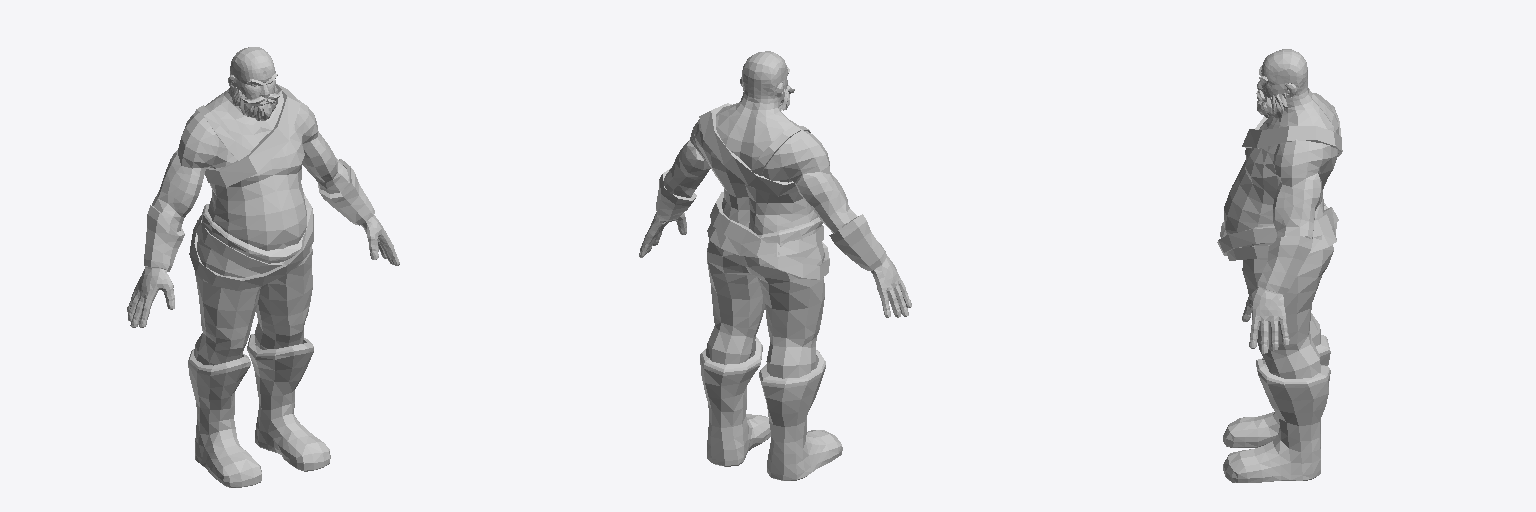
File: Bandit_ToTest.obj
3 views of the same model, side by side, from view 1: azimuth 30°, elevation 25°; view 2: azimuth 150°, elevation 25°; view 3: azimuth 270°, elevation 25° (orthographic).
Visible parts, largest first — view 1: Bandit_ToUvs; view 2: Bandit_ToUvs; view 3: Bandit_ToUvs.
Part boxes in pixels (bbox=[...]): Bandit_ToUvs: bbox=[127, 47, 399, 487]; Bandit_ToUvs: bbox=[639, 51, 911, 480]; Bandit_ToUvs: bbox=[1217, 49, 1342, 482].
Size of the model in its own units: 90.65 by 133 by 37.01.